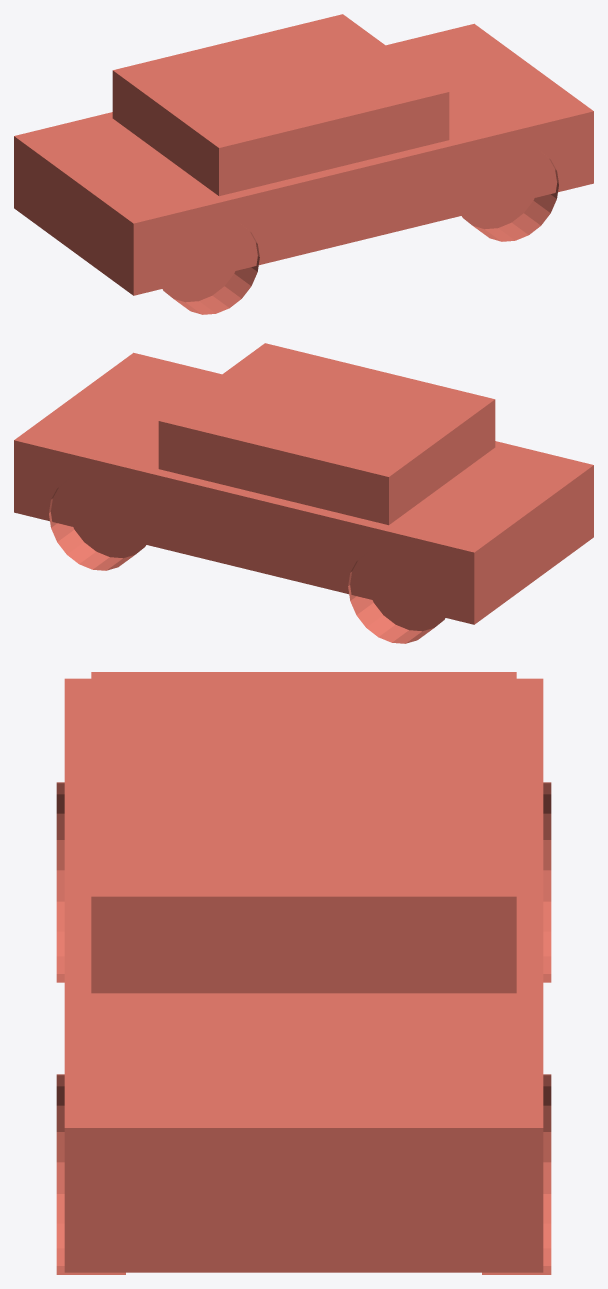
File: car_x.glb
3 renders of one model, top to bottom at view 1: azimuth 30°, elevation 25°; view 2: azimuth 150°, elevation 25°; view 3: azimuth 270°, elevation 25°, orthographic. The views are drawn at different scales.
Visible parts, largest first — view 1: Car; view 2: Car; view 3: Car.
Boxes of the visible parts, x1,y1,x2,y2 form: Car: (14,14,593,314); Car: (14,343,593,643); Car: (56,672,551,1274).
Size of the model in its own units: 4 by 1.3 by 1.86.
